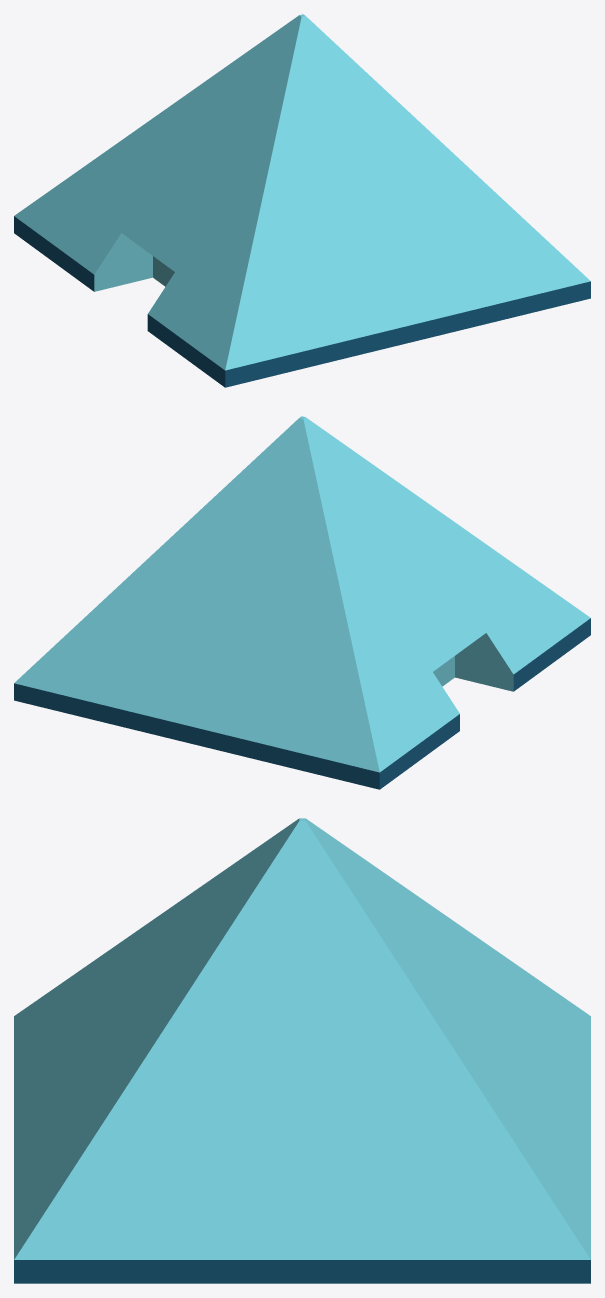
The picture shows the model from 3 angles, top to bottom: view 1: azimuth 30°, elevation 25°; view 2: azimuth 150°, elevation 25°; view 3: azimuth 270°, elevation 25°; orthographic projection. The views are drawn at different scales.
Parts seen in each view (by area): view 1: Cube.405; view 2: Cube.405; view 3: Cube.405.
Part boxes in pixels (x1,y1,x2,y2): Cube.405: (14,14,590,387); Cube.405: (14,416,590,789); Cube.405: (14,818,590,1283).
Bounding box in the file's own units: 35.71 × 23.35 × 35.71.
1 material, 1 textured.
